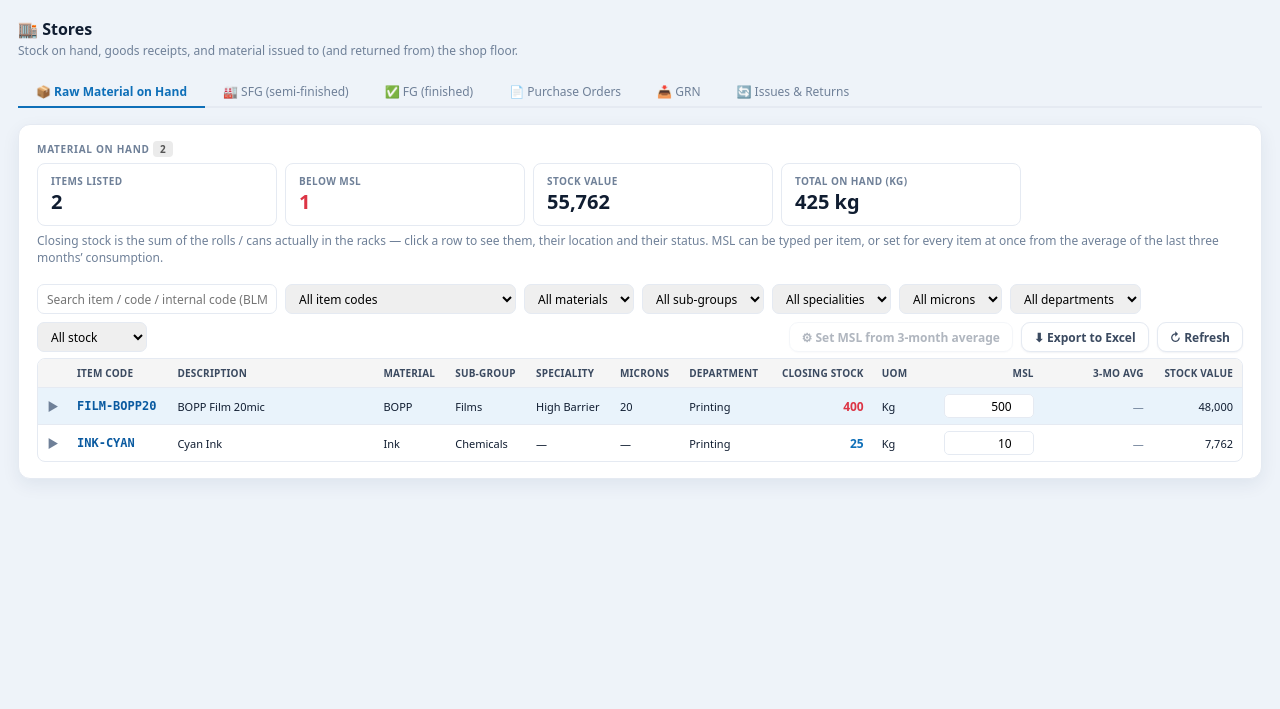
Test: Stores — purchase orders, GRN, issues and returns › sees a PO Purchase raised after sign-in — on opening the GRN, on opening the PO list, and on the PO tab (review P1)
This screenshot has width=1280, height=709.
Expected: the text "FILM-BOPP20" is shown, [68, 388, 168, 424]
Click the text "📥 GRN".
click(679, 92)  # box [657, 83, 700, 100]
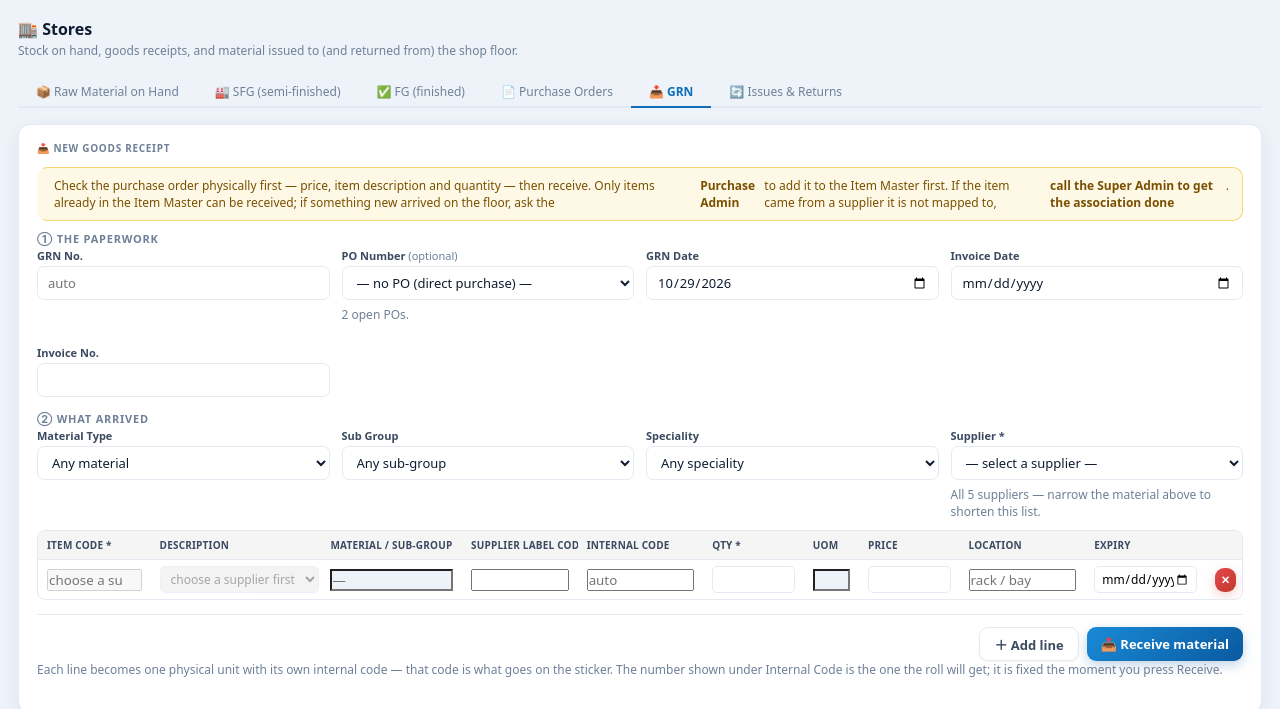
Expected: the text "📥 New goods receipt" is shown, [37, 141, 170, 155]
Focus the dropdown named "Purchase order" at (488, 283), box [342, 266, 634, 300]
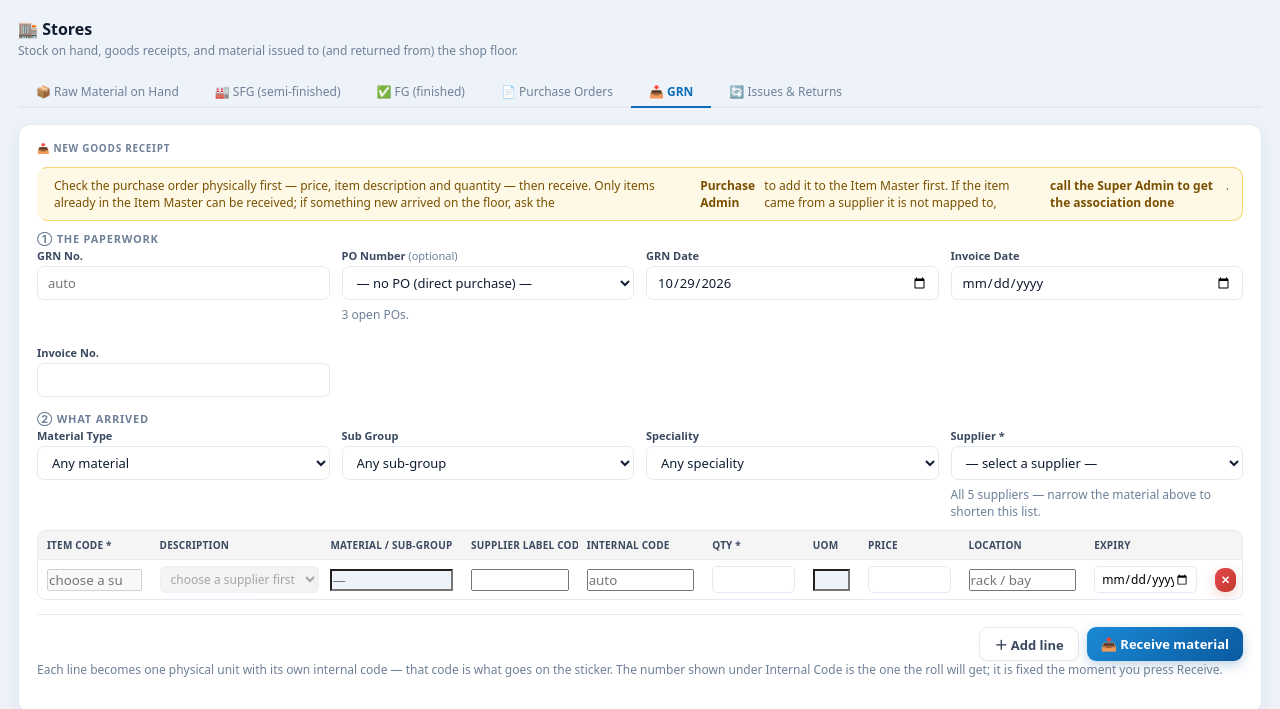
Select "BLM/PUR/2026-2027/10 · Cosmos Films" in the dropdown named "Purchase order" at (488, 283), box [342, 266, 634, 300]
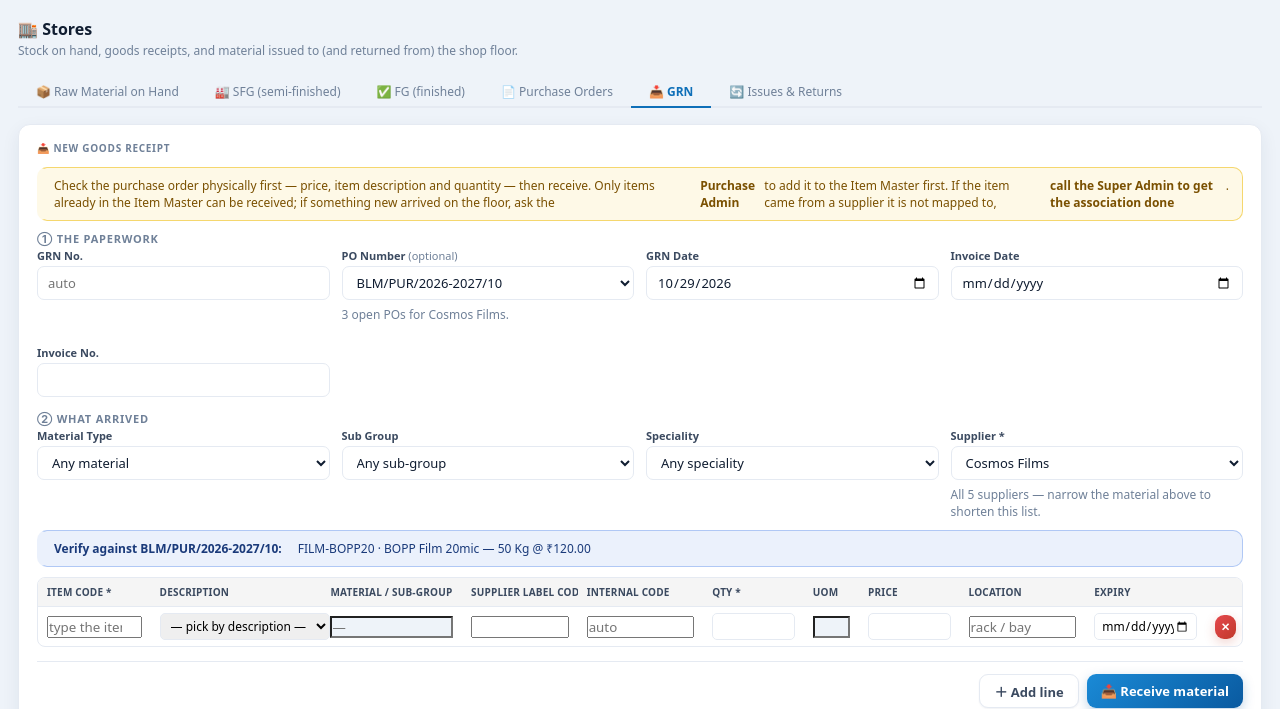
Expected: the dropdown named "Supplier" shows "Cosmos Films", [950, 446, 1243, 480]
Click the text "📄 Purchase Orders".
click(557, 92)  # box [501, 83, 613, 100]
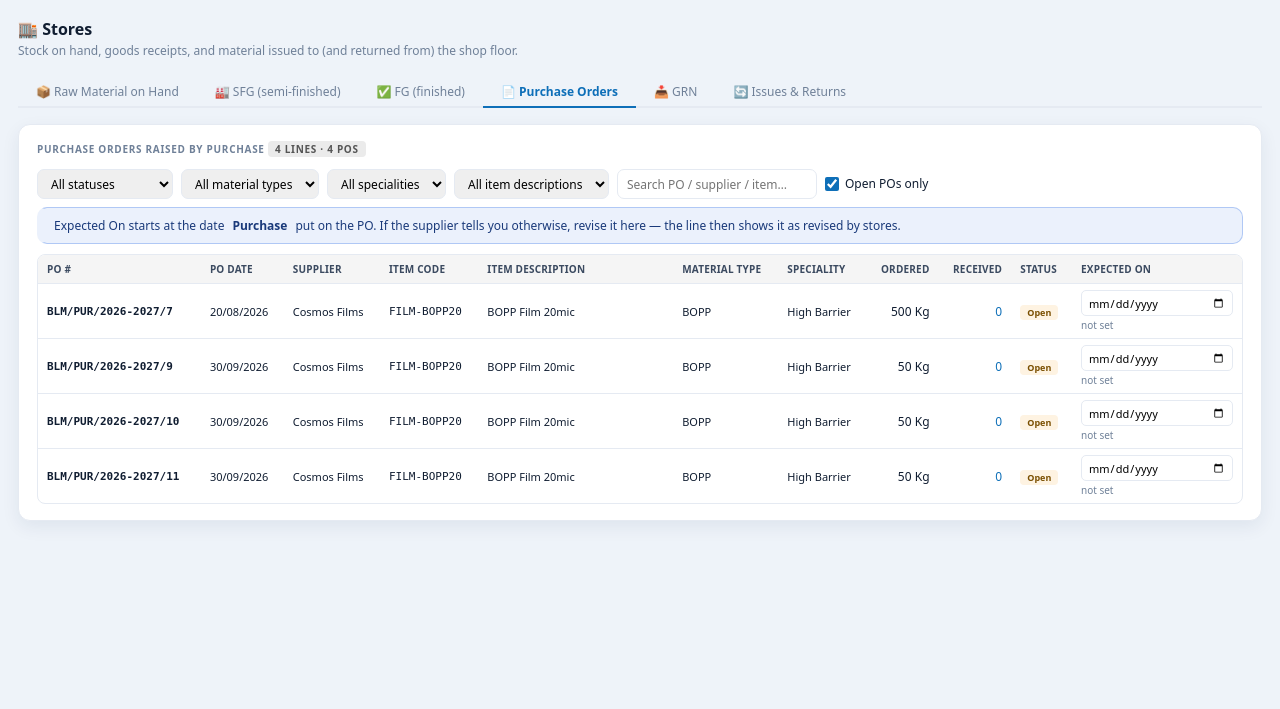
Expected: the text "BLM/PUR/2026-2027/11" is shown, [38, 448, 201, 503]
